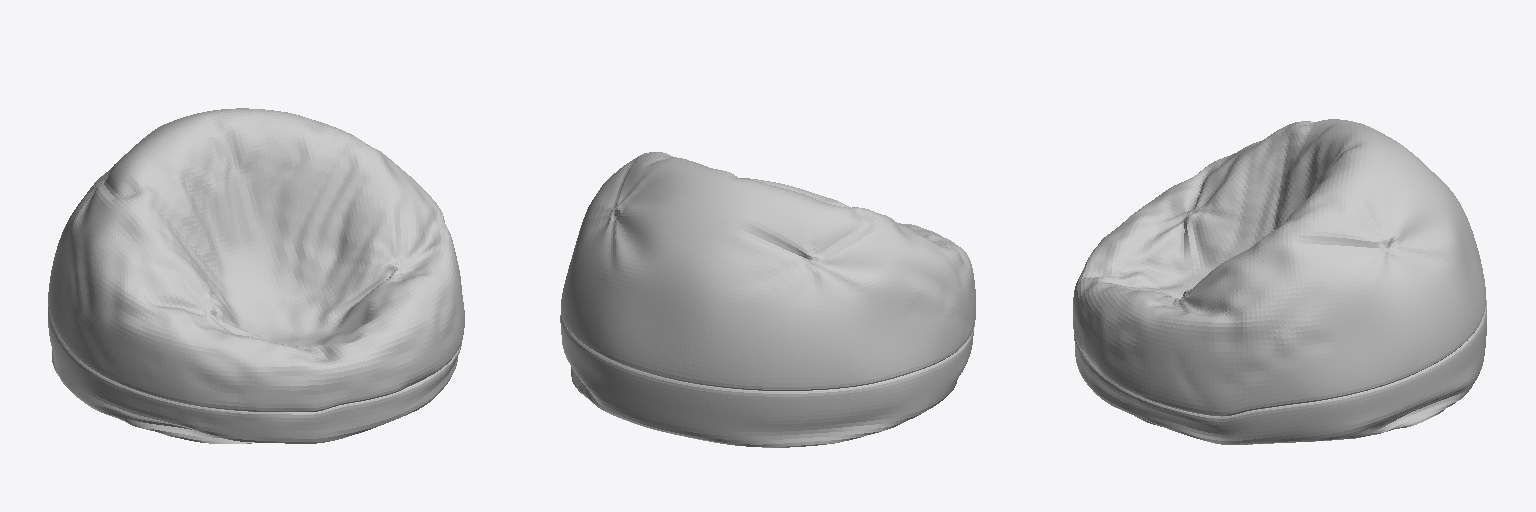
File: bean_bag.obj
3 renders of one model, left to right at view 1: azimuth 30°, elevation 25°; view 2: azimuth 150°, elevation 25°; view 3: azimuth 270°, elevation 25°, orthographic.
Parts seen in each view (by area): view 1: Cube_Cube.002; view 2: Cube_Cube.002; view 3: Cube_Cube.002.
Part boxes in pixels (left/top/right/bottom): Cube_Cube.002: left=48, top=108, right=464, bottom=443; Cube_Cube.002: left=560, top=152, right=975, bottom=447; Cube_Cube.002: left=1073, top=119, right=1486, bottom=444.
Size of the model in its own units: 1.72 by 1.01 by 1.72.